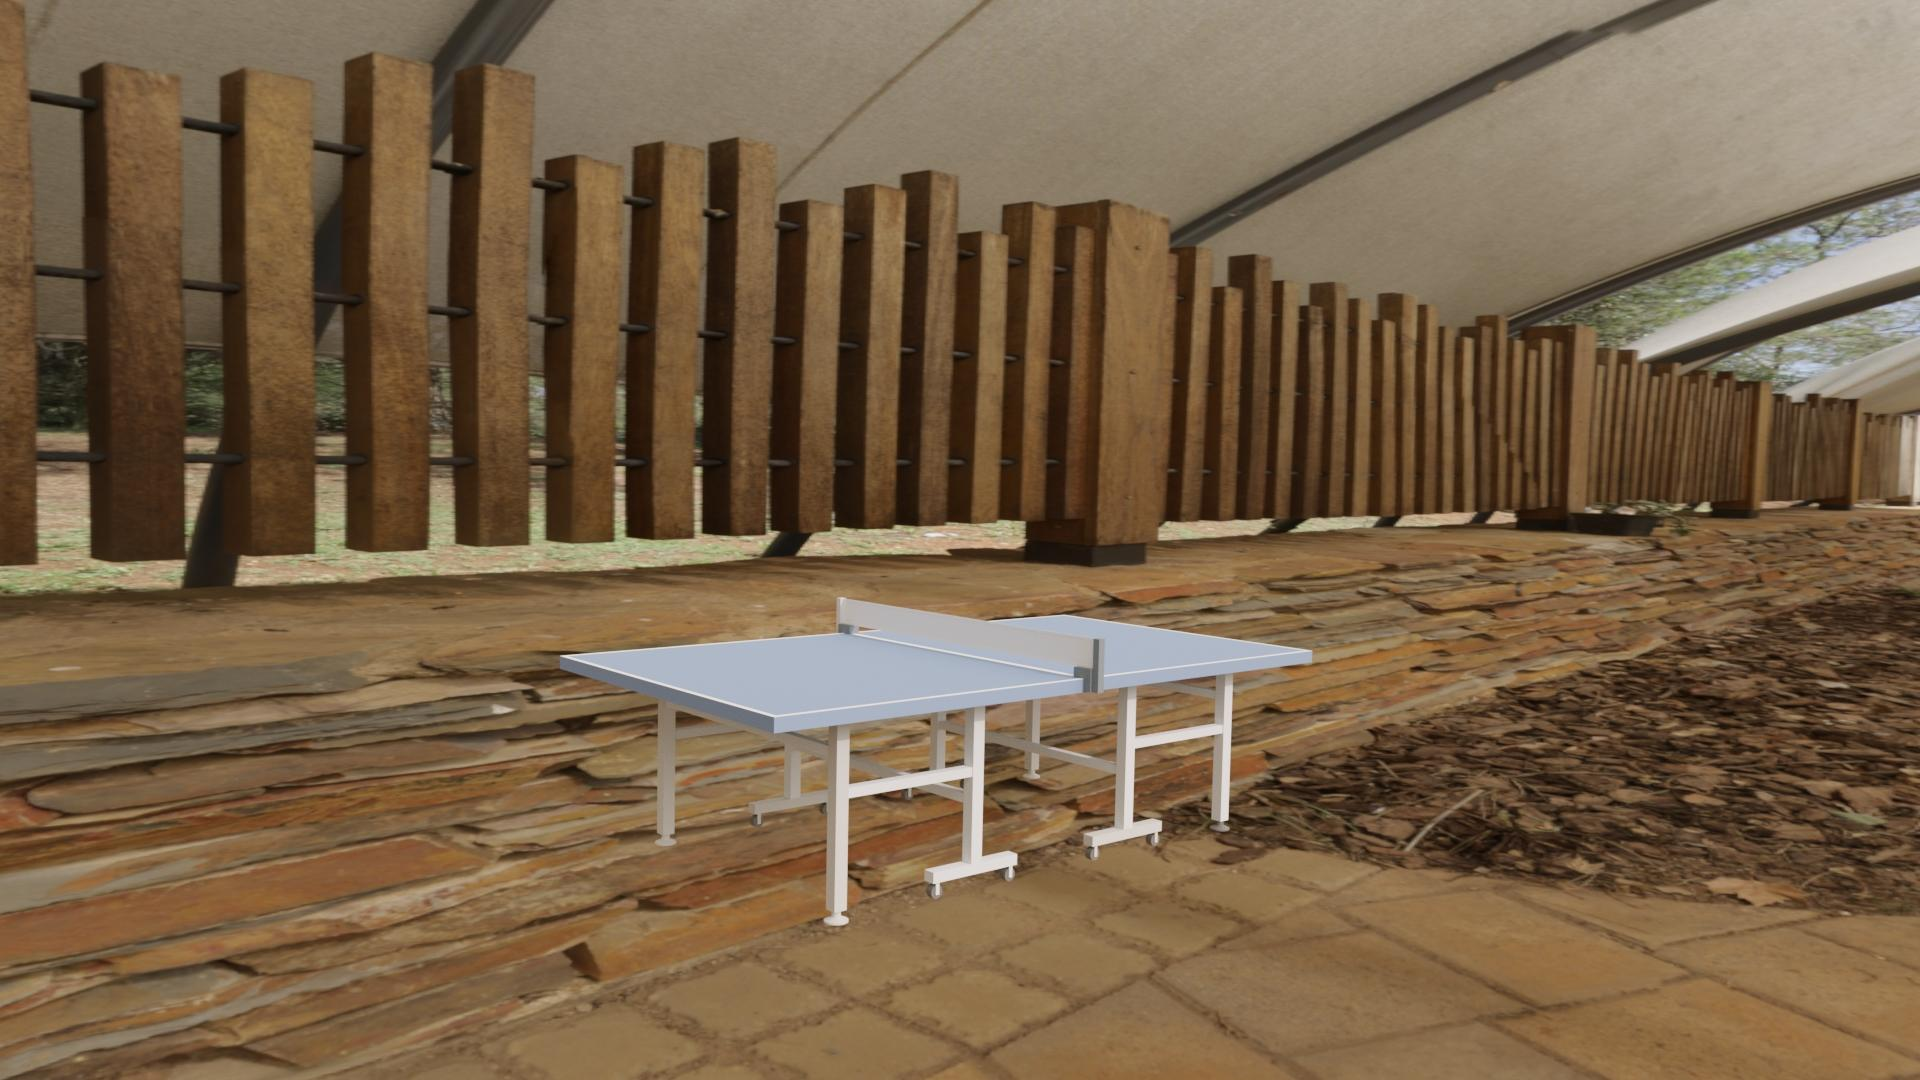table: (567, 616, 1305, 716)
